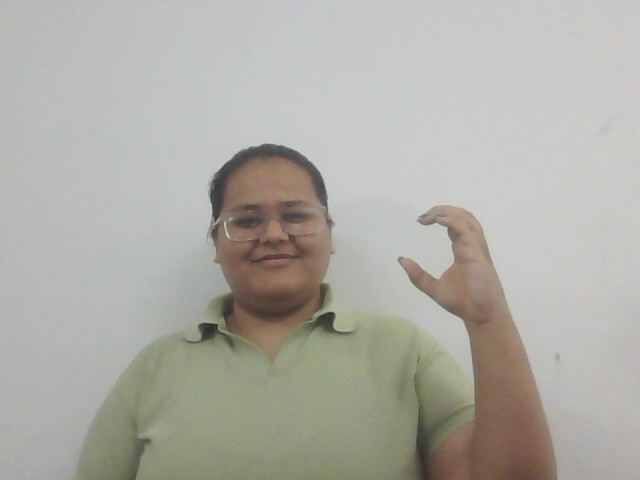C: (395, 202, 506, 325)
